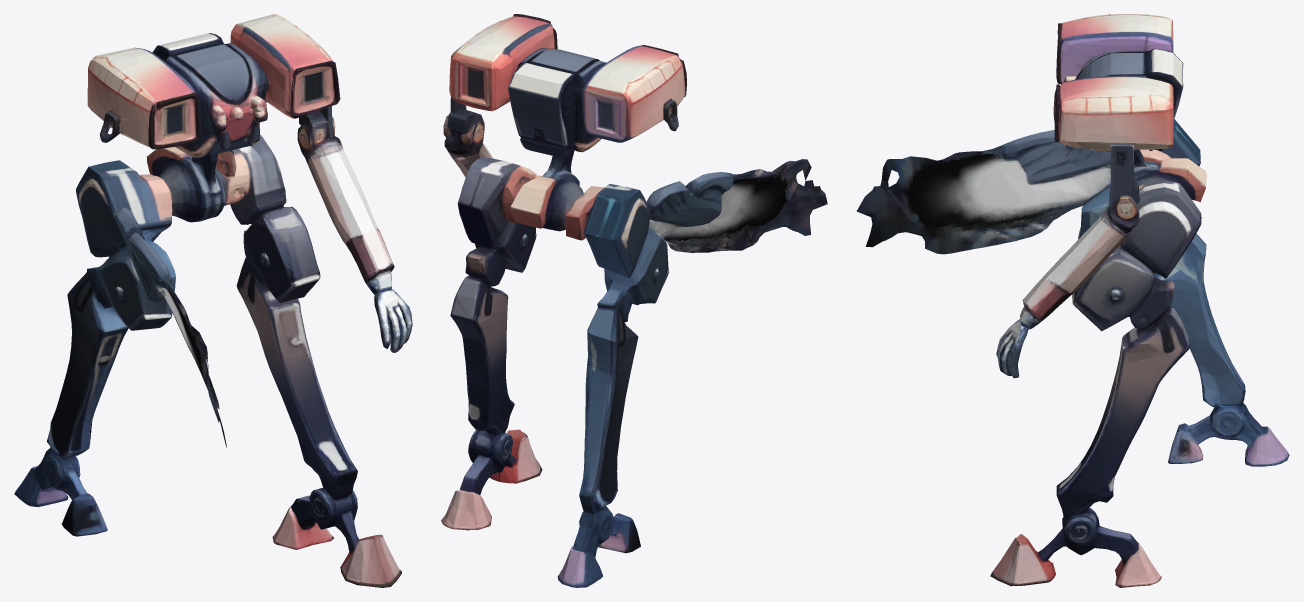
File: robot_walker.glb
The picture shows the model from 3 angles, left to right: view 1: azimuth 30°, elevation 25°; view 2: azimuth 150°, elevation 25°; view 3: azimuth 270°, elevation 25°; orthographic projection. The views are drawn at different scales.
Parts seen in each view (by area): view 1: geometry_0; view 2: geometry_0; view 3: geometry_0.
Part boxes in pixels (box(x1,y1,x2,y2)): geometry_0: box(14, 14, 412, 587); geometry_0: box(441, 14, 827, 587); geometry_0: box(856, 14, 1289, 587).
Size of the model in its own units: 0.9005 by 1.6 by 1.31.
Materials: 1 (1 with a texture image).
